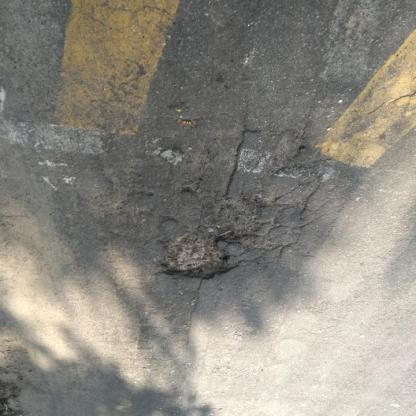pothole: (153, 230, 240, 282), (208, 197, 265, 245), (269, 127, 308, 173)
